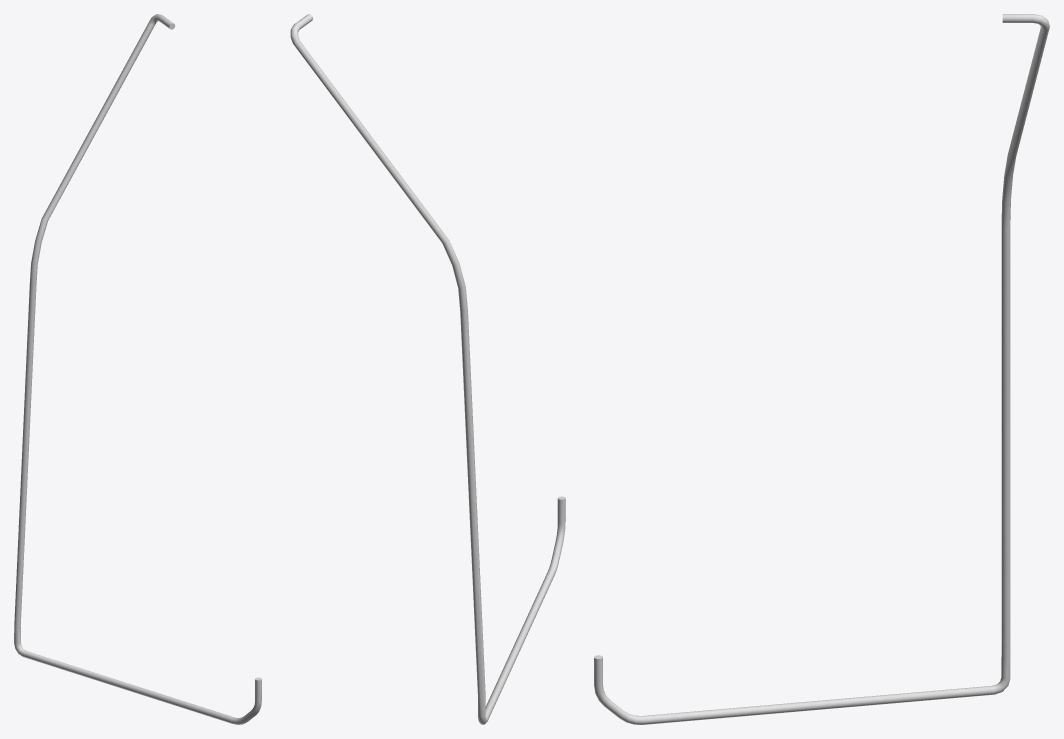
3 views of the same model, side by side, from view 1: azimuth 30°, elevation 25°; view 2: azimuth 150°, elevation 25°; view 3: azimuth 270°, elevation 25° (orthographic). The views are drawn at different scales.
Visible parts, largest first — view 1: SM_水管; view 2: SM_水管; view 3: SM_水管.
Boxes of the visible parts, left/top/right/bottom form: SM_水管: left=14, top=14, right=261, bottom=724; SM_水管: left=290, top=14, right=565, bottom=724; SM_水管: left=594, top=14, right=1049, bottom=724.
Bounding box in the file's own units: 0.2665 × 0.9481 × 0.5048.
